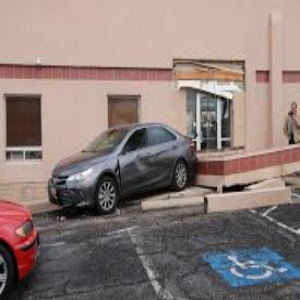door: (118, 154, 171, 190)
